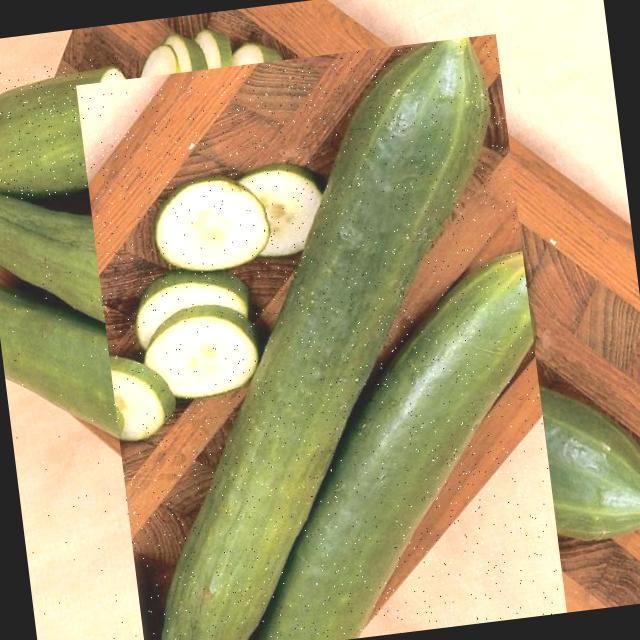Cucumber: (76, 34, 533, 640), (202, 262, 566, 640)
